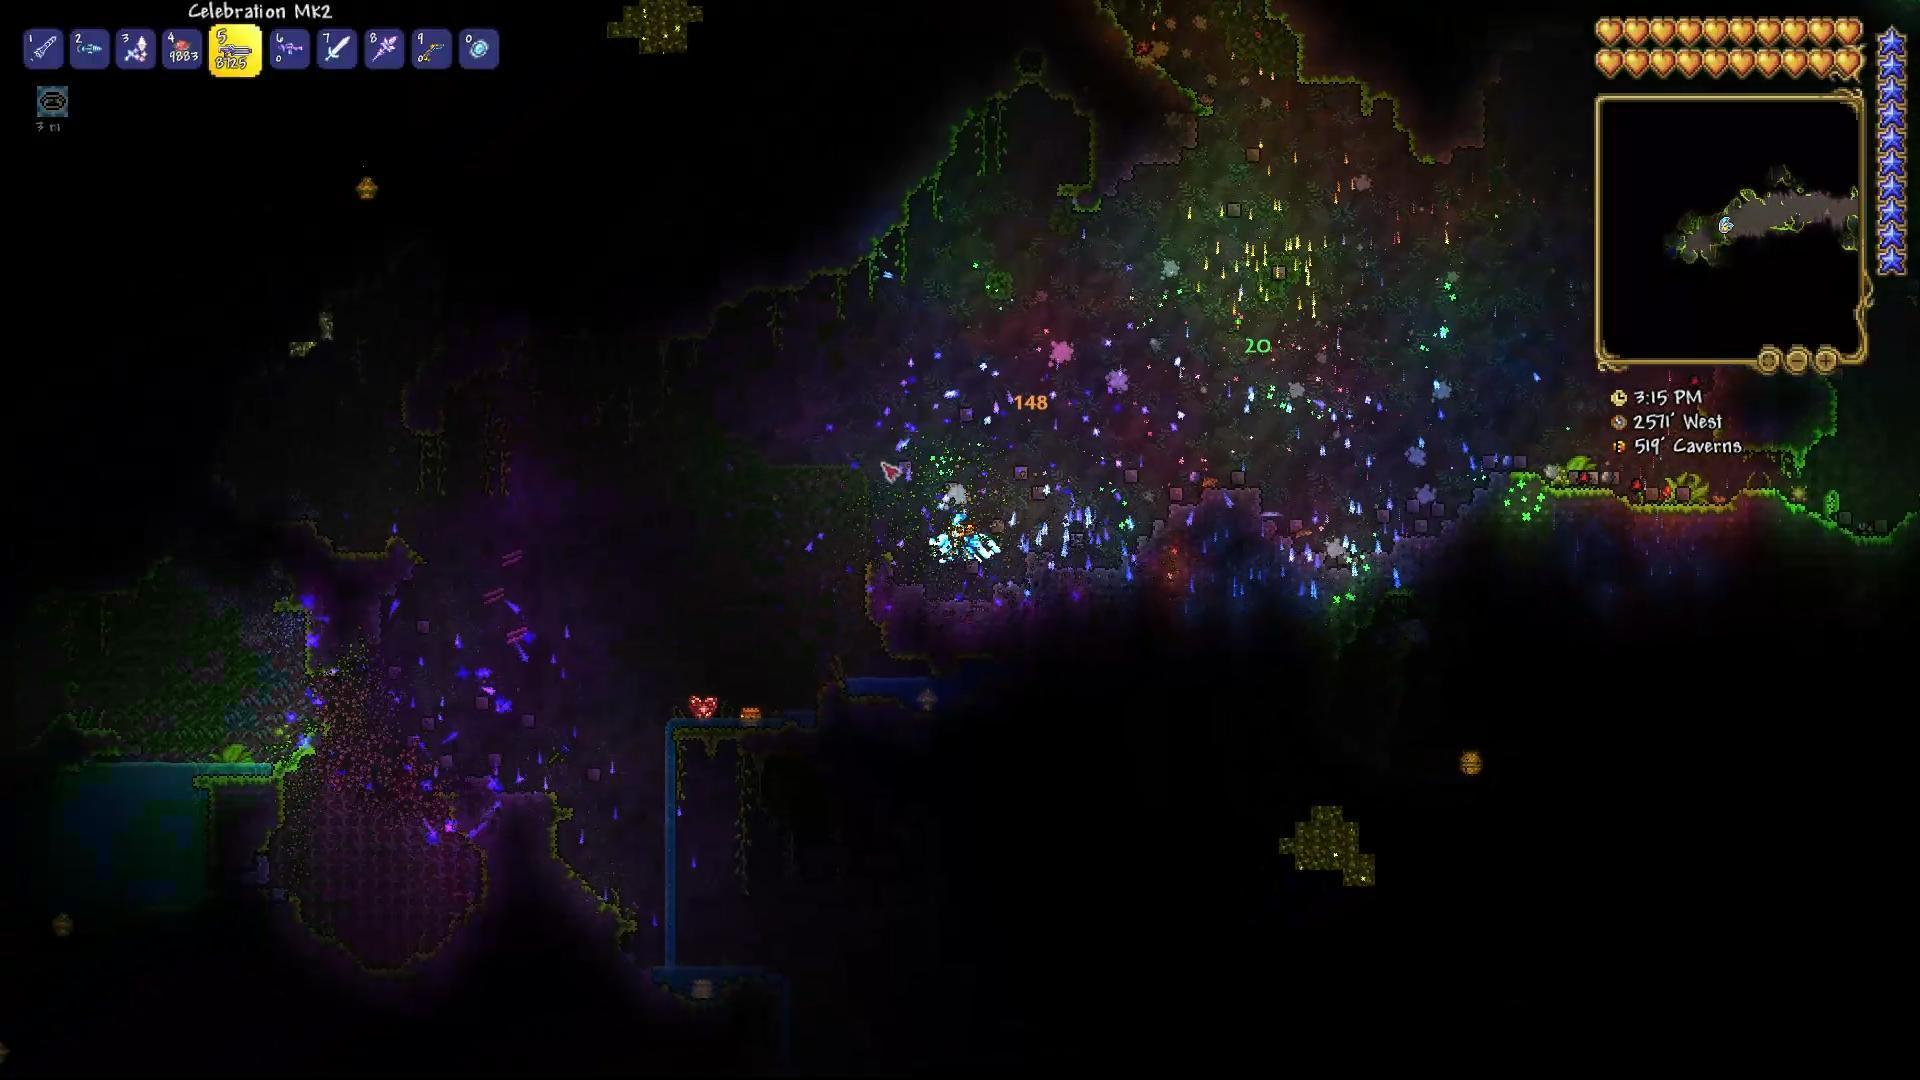lifeC: (687, 694, 720, 723)
mirror: (467, 37, 488, 58)
